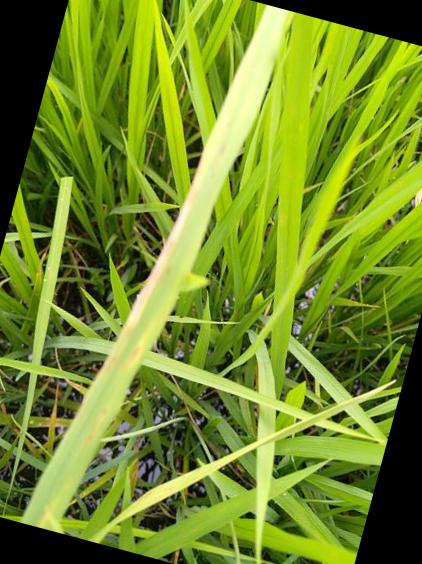Leaf Blight: (21, 4, 292, 533)
